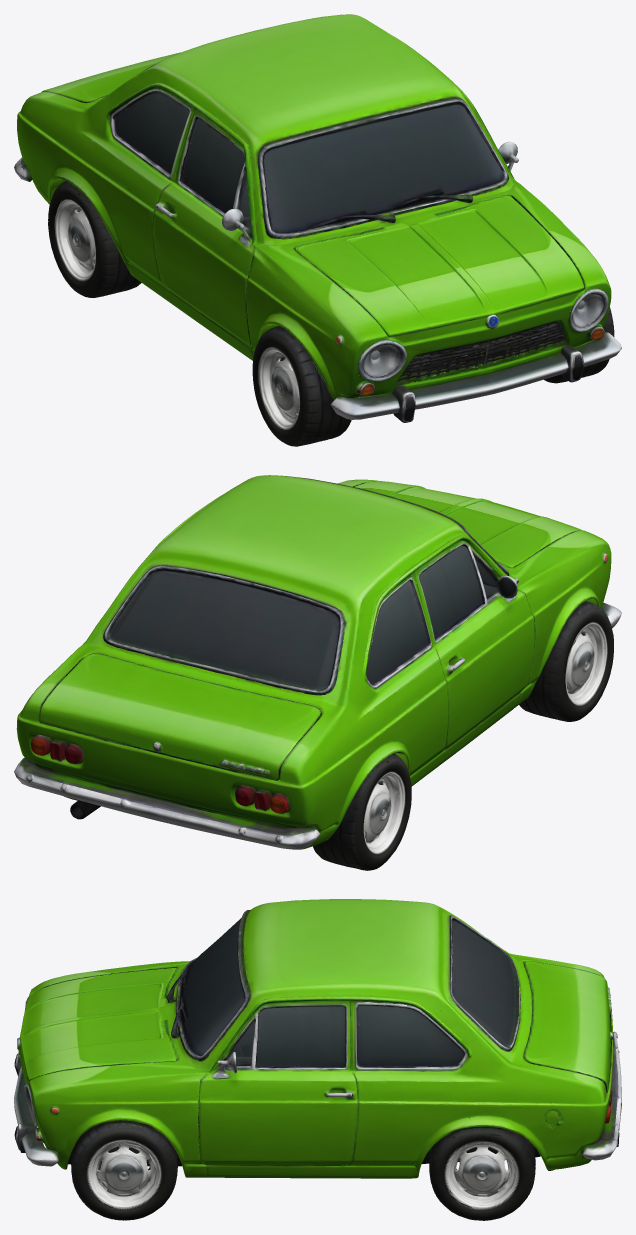
File: anadol_a1.glb
The picture shows the model from 3 angles, top to bottom: view 1: azimuth 30°, elevation 25°; view 2: azimuth 150°, elevation 25°; view 3: azimuth 270°, elevation 25°; orthographic projection. The views are drawn at different scales.
Visible parts, largest first — view 1: tripo_part_0, tripo_part_3, tripo_part_6, tripo_part_2, tripo_part_15, tripo_part_1, tripo_part_5, tripo_part_7, tripo_part_17, tripo_part_19, tripo_part_14, tripo_part_12 (+9 smaller); view 2: tripo_part_0, tripo_part_3, tripo_part_16, tripo_part_12, tripo_part_15, tripo_part_13, tripo_part_6, tripo_part_1, tripo_part_7, tripo_part_19, tripo_part_17, tripo_part_10 (+2 smaller); view 3: tripo_part_0, tripo_part_3, tripo_part_6, tripo_part_14, tripo_part_12, tripo_part_16, tripo_part_2, tripo_part_22, tripo_part_18, tripo_part_11, tripo_part_4, tripo_part_9 (+7 smaller).
Boxes of the visible parts, bbox=[...] form: tripo_part_0: bbox=[17, 35, 597, 398]; tripo_part_3: bbox=[97, 14, 467, 158]; tripo_part_6: bbox=[294, 196, 586, 336]; tripo_part_2: bbox=[258, 98, 508, 239]; tripo_part_15: bbox=[246, 244, 387, 399]; tripo_part_1: bbox=[252, 326, 351, 446]; tripo_part_5: bbox=[330, 332, 621, 422]; tripo_part_7: bbox=[48, 181, 141, 297]; tripo_part_17: bbox=[181, 118, 244, 213]; tripo_part_19: bbox=[115, 92, 189, 173]; tripo_part_14: bbox=[512, 183, 611, 327]; tripo_part_12: bbox=[42, 52, 180, 102]; tripo_part_0: bbox=[16, 496, 594, 849]; tripo_part_3: bbox=[97, 475, 468, 685]; tripo_part_16: bbox=[103, 564, 345, 695]; tripo_part_12: bbox=[39, 653, 321, 780]; tripo_part_15: bbox=[510, 530, 611, 707]; tripo_part_13: bbox=[14, 757, 320, 849]; tripo_part_6: bbox=[354, 481, 581, 567]; tripo_part_1: bbox=[519, 601, 613, 721]; tripo_part_7: bbox=[313, 753, 411, 870]; tripo_part_19: bbox=[366, 581, 427, 684]; tripo_part_17: bbox=[419, 545, 482, 639]; tripo_part_10: bbox=[364, 776, 399, 848]; tripo_part_0: bbox=[17, 912, 619, 1178]; tripo_part_3: bbox=[242, 899, 496, 1055]; tripo_part_6: bbox=[17, 967, 175, 1081]; tripo_part_14: bbox=[28, 1061, 206, 1177]; tripo_part_12: bbox=[523, 961, 611, 1093]; tripo_part_16: bbox=[446, 915, 520, 1051]; tripo_part_2: bbox=[175, 910, 249, 1061]; tripo_part_22: bbox=[256, 1006, 345, 1067]; tripo_part_18: bbox=[358, 1005, 463, 1067]; tripo_part_11: bbox=[71, 1120, 177, 1220]; tripo_part_4: bbox=[429, 1127, 535, 1220]; tripo_part_9: bbox=[89, 1141, 159, 1206].
Size of the model in its own units: 0.5226 by 0.4075 by 0.9987.
Materials: 1 (1 with a texture image).
